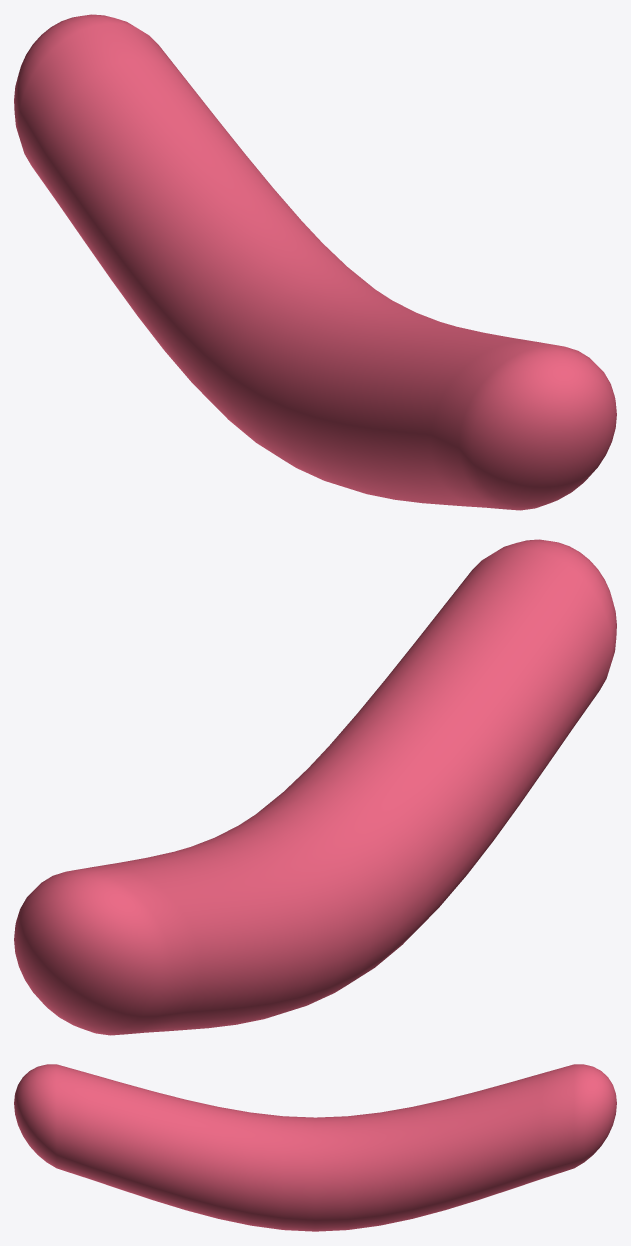
The model's file is sausage_raw.glb.
3 renders of one model, top to bottom at view 1: azimuth 30°, elevation 25°; view 2: azimuth 150°, elevation 25°; view 3: azimuth 270°, elevation 25°, orthographic. The views are drawn at different scales.
Visible parts, largest first — view 1: Sphere; view 2: Sphere; view 3: Sphere.
Boxes of the visible parts, x1,y1,x2,y2 form: Sphere: (14, 14, 616, 510); Sphere: (14, 539, 616, 1035); Sphere: (14, 1064, 616, 1231).
Size of the model in its own units: 0.2149 by 0.3267 by 1.13.
1 material, 1 textured.
